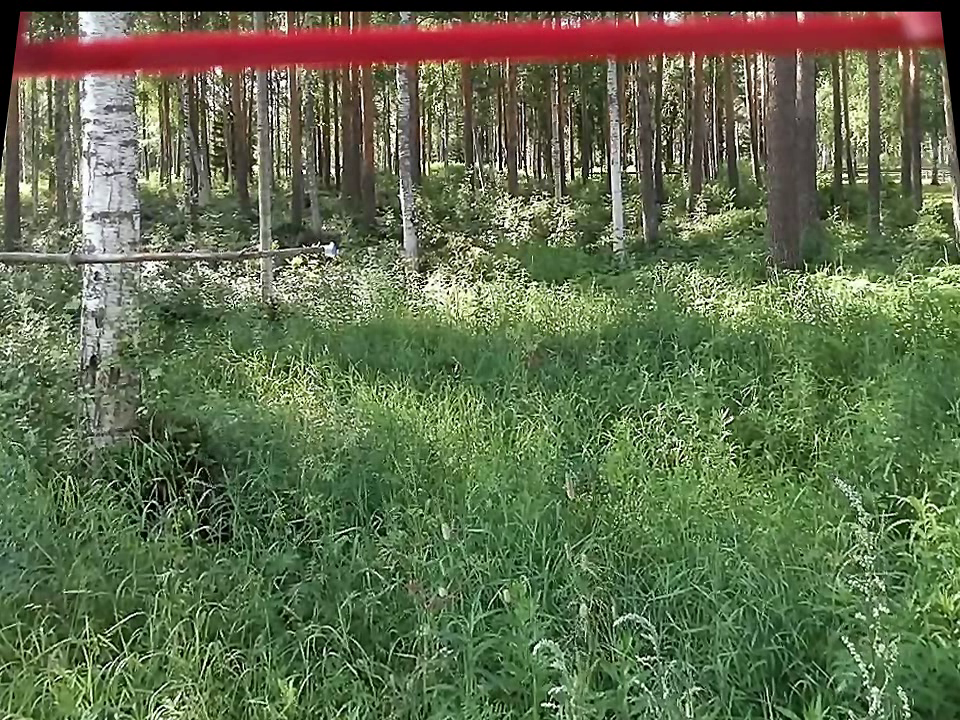branch: (0, 233, 311, 274)
